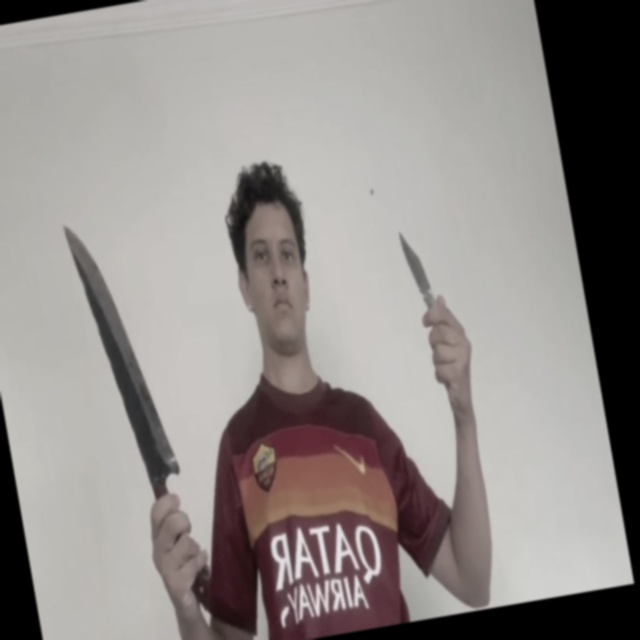Sharp-Object: (62, 210, 184, 488), (397, 227, 435, 306)
